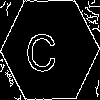C: (25, 25, 57, 72)
